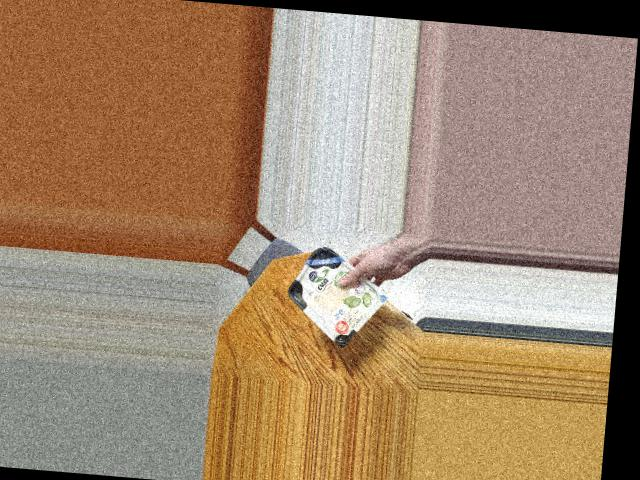cheese: (284, 242, 375, 341)
